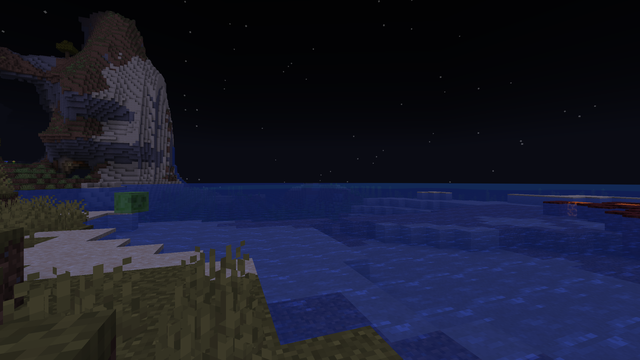slimes: (115, 190, 146, 212)
